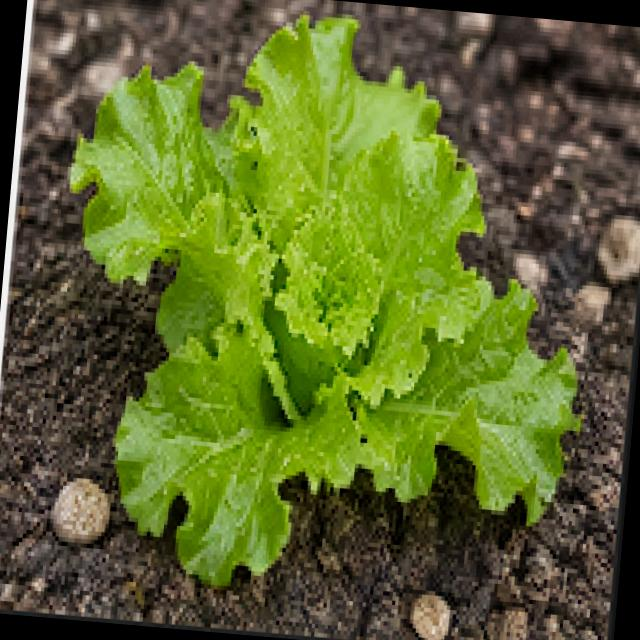inmadura: (69, 15, 577, 581)
